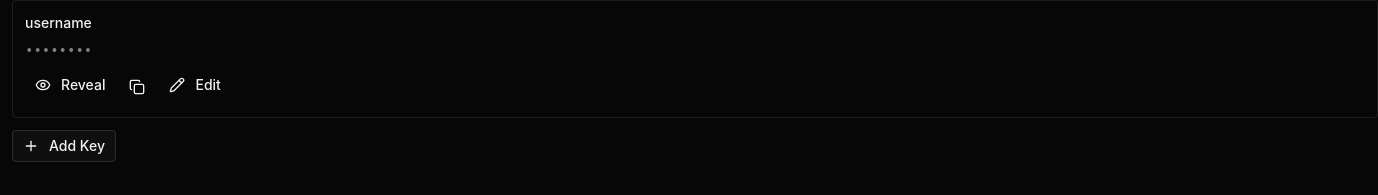
Test case: SecretDataViewer › clicking Reveal again (now Hide) hides the value
What coordinates should you click on to do the following:
click the button "Reveal"
I would click on:
 (70, 85)
Its box is [25,69,116,101].
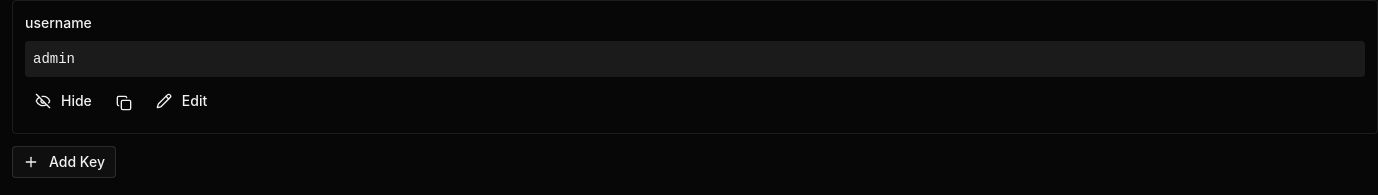
Check: the text "admin" is shown, box [25,41,1365,77]
What coordinates should you click on to do the following:
click the button "Hide"
I would click on:
 (63, 101)
Its box is [25,85,102,117].
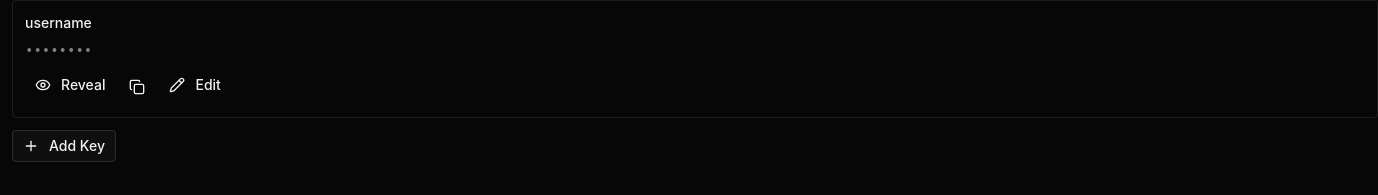
Check: the text "admin" is gone
